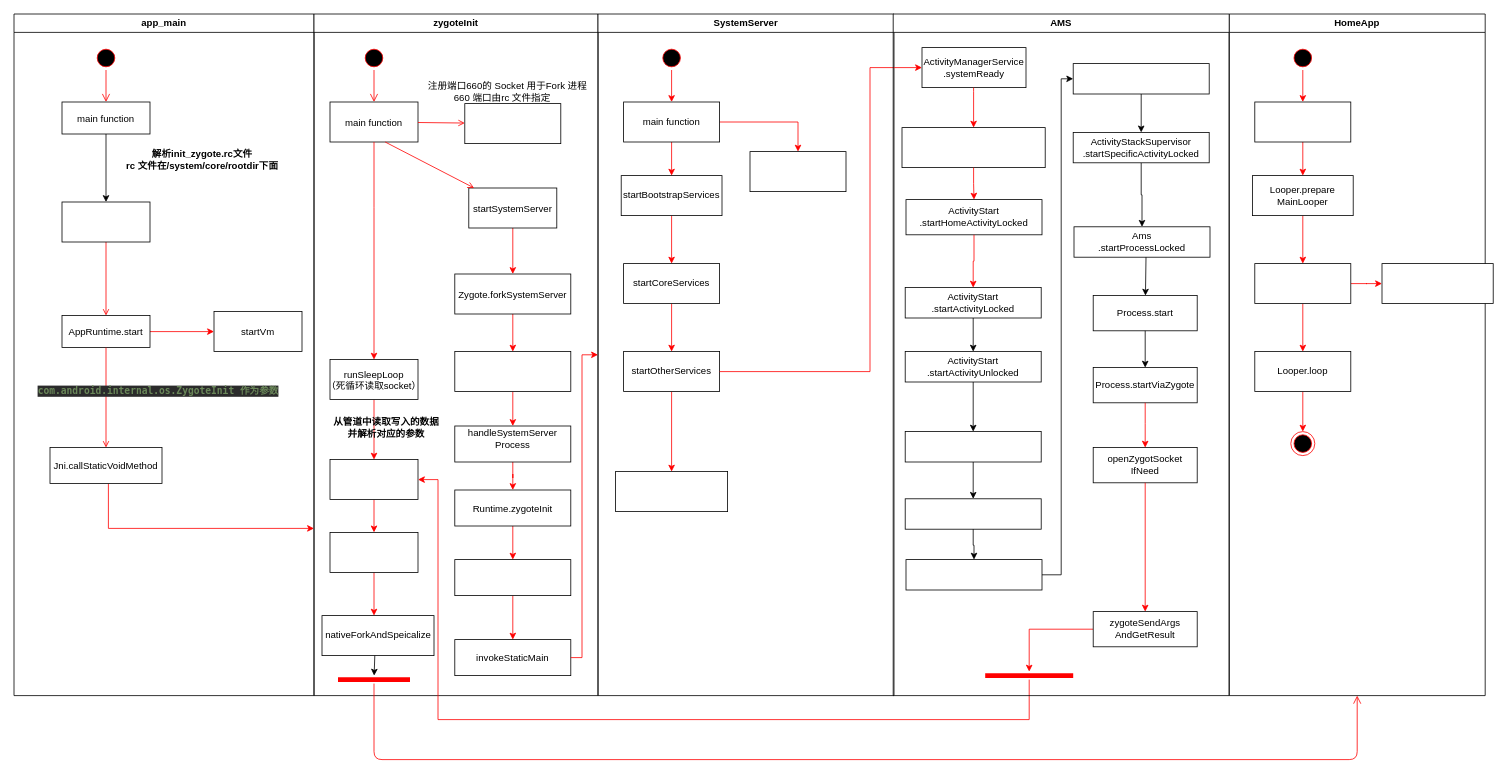
Some shapes in this 1507 by 782 pixel diagram are drawn without their labels. Here are the shapes that lost their labels. From the top down, the centre of each, then its label:
At point (1140, 78): "resumeTopActivityInnerLocked".
At point (512, 123): "registerZygoteSocket".
At point (1302, 121): "ActivityThread.main".
At point (973, 147): "startHomeActivityLocked".
At point (797, 171): "createSystemContext".
At point (105, 221): "parser args".
At point (1302, 283): "attach".
At point (1437, 283): "ActivityManagerService .attachApplication".
At point (512, 371): "handleSystemServer Success".
At point (972, 446): "ActivityStack . startActivityLocked".
At point (373, 479): "ZygoteConnection .runOnce".
At point (671, 491): "PackageManagerService .systemReady".
At point (972, 513): "ActivityStackSupervisor .resumeFocusStackTopActivity Locked".
At point (373, 552): "Zygote .forkAndSpeicalize".
At point (512, 577): "Runtime.applicationInit".
At point (973, 574): "ActivityStack .resumeTopActivityUnchecked Locked".
